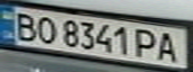1: (112, 24, 133, 56)
3: (78, 19, 96, 52)
4: (93, 21, 115, 54)
8: (57, 17, 81, 48)
A: (154, 29, 184, 63)
B: (9, 9, 42, 42)
O: (33, 14, 60, 44)
P: (133, 27, 160, 60)
